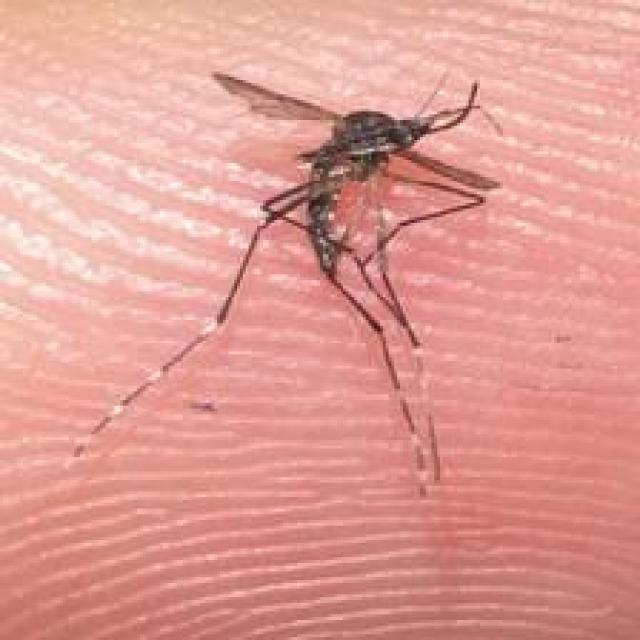Aedes albopictus: (76, 66, 504, 497)
